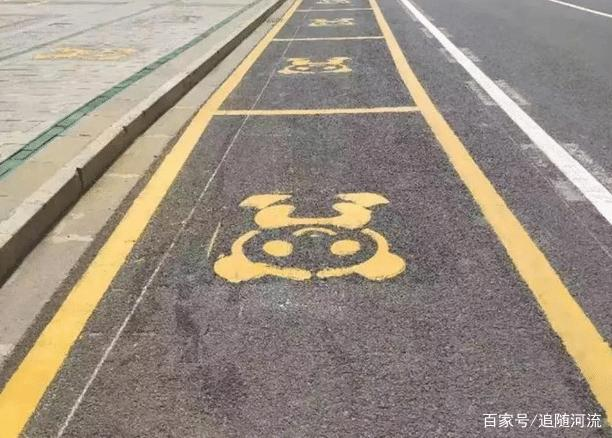slot_nocar: (40, 100, 612, 438), (200, 25, 441, 124), (267, 4, 401, 49)
